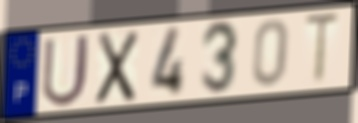0: (249, 17, 292, 91)
3: (199, 17, 240, 99)
4: (148, 23, 187, 100)
T: (301, 11, 343, 88)
U: (40, 31, 93, 110)
X: (93, 28, 141, 107)
